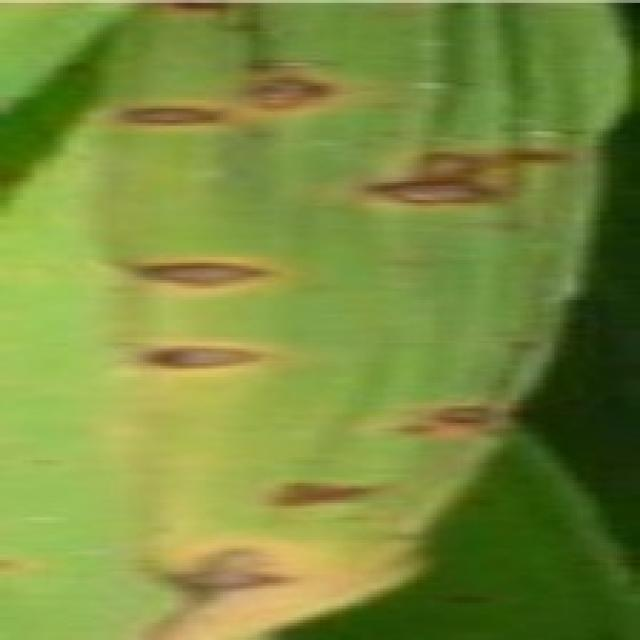Rice___Brown_Spot: (2, 3, 634, 637)
